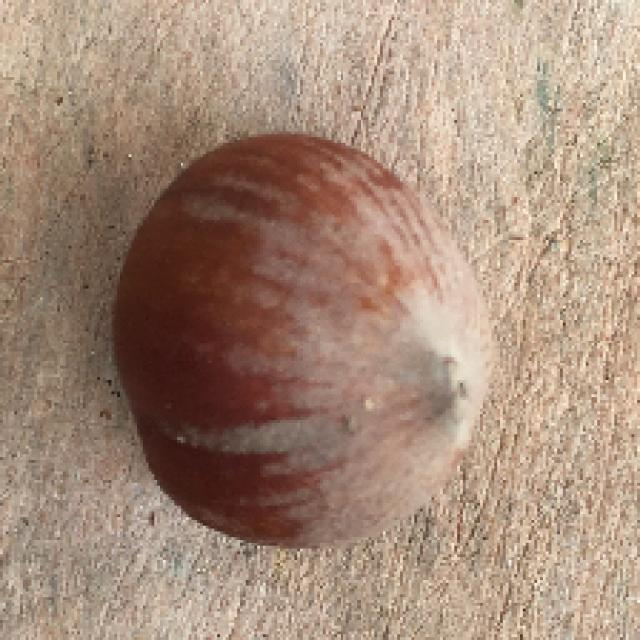QualityHazelnut: (111, 134, 500, 555)
